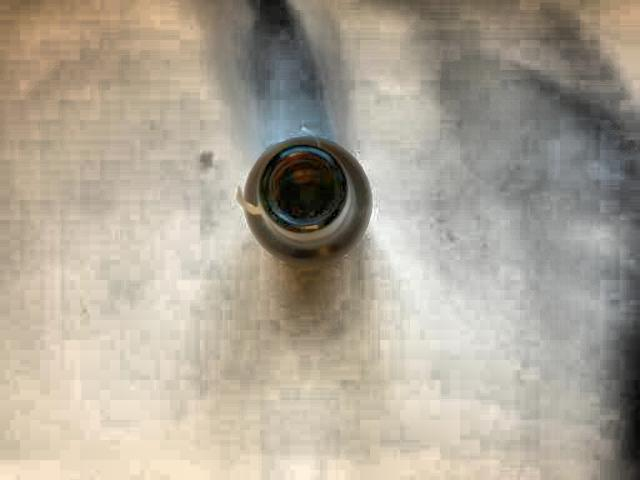Bottles: (217, 125, 409, 279)
